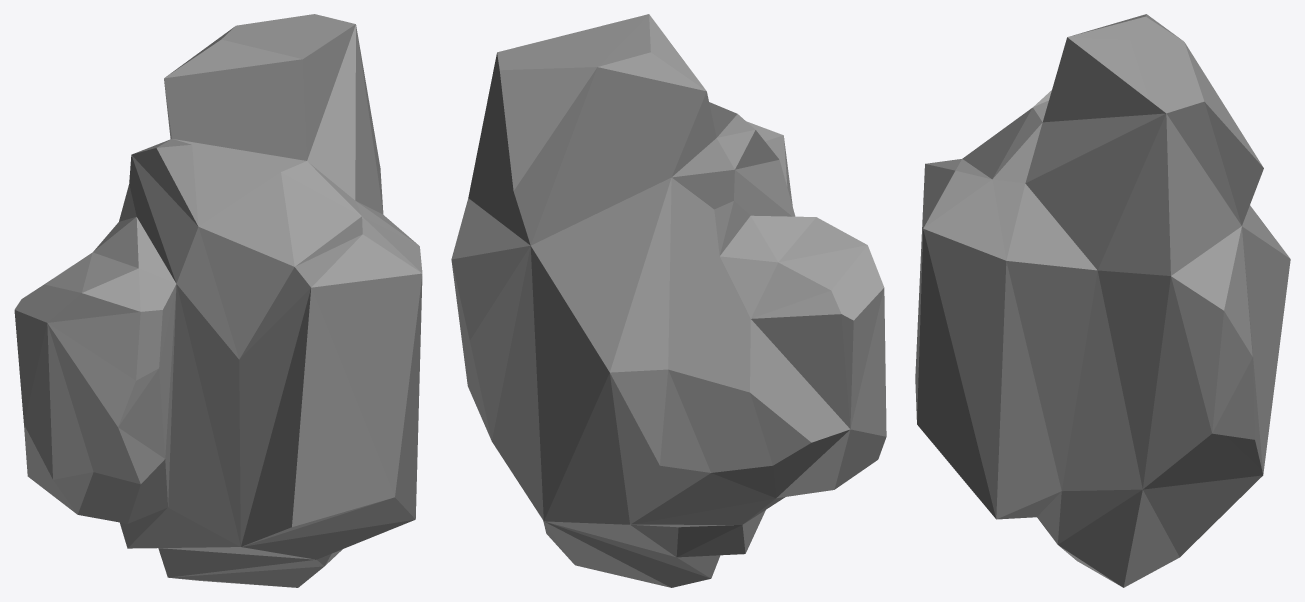
File: rock__rock4_natural_light.glb
3 views of the same model, side by side, from view 1: azimuth 30°, elevation 25°; view 2: azimuth 150°, elevation 25°; view 3: azimuth 270°, elevation 25° (orthographic).
Parts seen in each view (by area): view 1: rock4.natural.light; view 2: rock4.natural.light; view 3: rock4.natural.light.
Part boxes in pixels (x1=…): rock4.natural.light: x1=14, y1=14, x2=422, y2=587; rock4.natural.light: x1=451, y1=14, x2=886, y2=587; rock4.natural.light: x1=915, y1=14, x2=1290, y2=587.
Bounding box in the file's own units: 3.13 × 4.25 × 2.74.
Materials: 1 (1 with a texture image).
